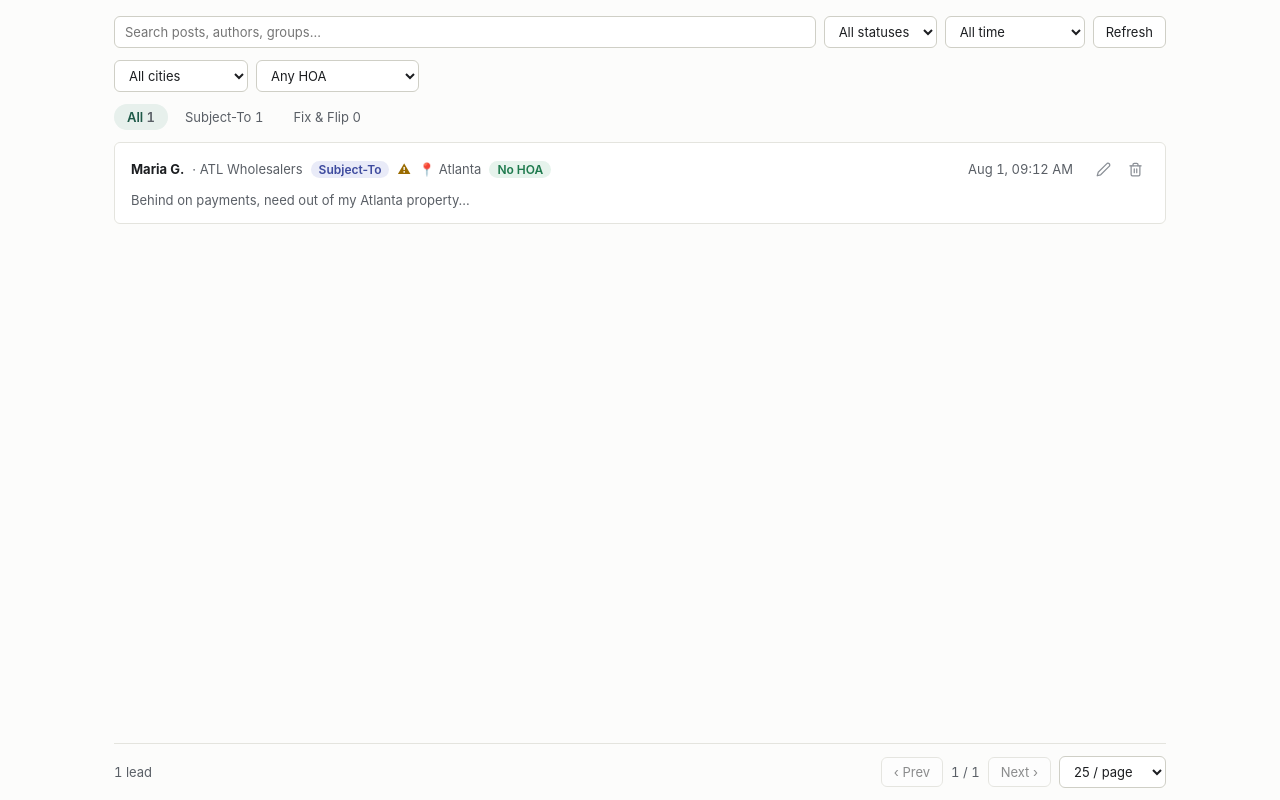
Test case: date filters › renders the preset selector and custom range inputs
Expected: the text "Maria G." is shown, left=131, top=161, right=184, bottom=177
Select "Custom range…" in the dropdown named "Received date": (1015,32) left=945, top=16, right=1085, bottom=48
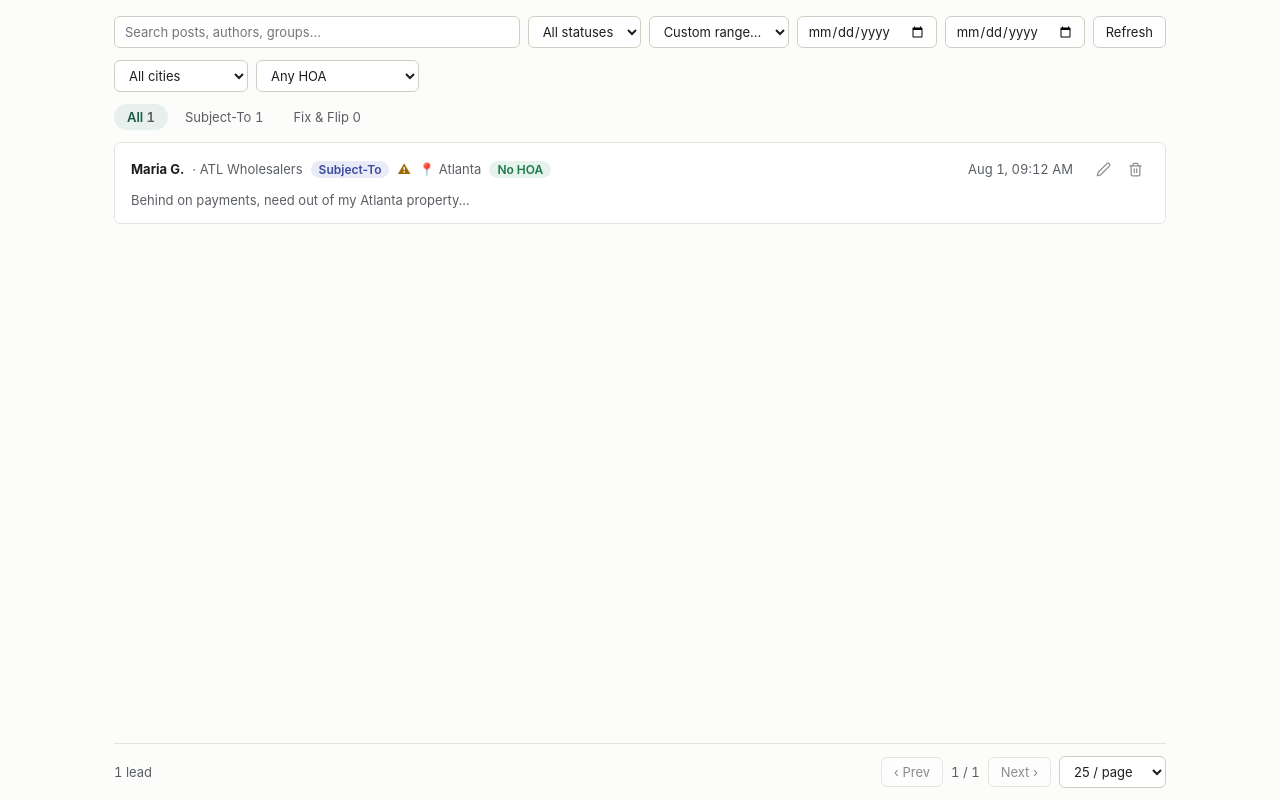
Now the date field named "Received from" is shown, box left=797, top=16, right=937, bottom=48
Now the date field named "Received to" is shown, box left=945, top=16, right=1085, bottom=48
